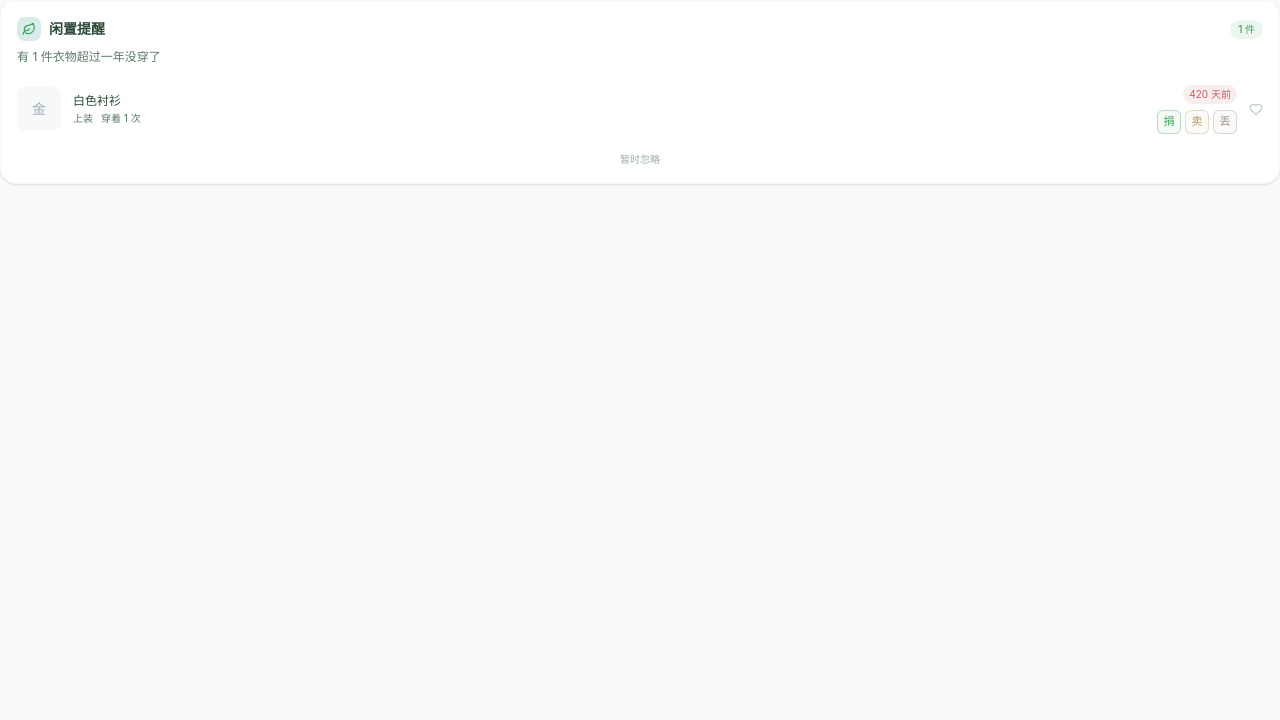
Test: IdleItemsCard › 点「捐」先出二次确认，未确认不调接口
Expected: the text "白色衬衫" is shown, [73, 92, 121, 108]
What coordinates should you click on to do the following:
click the button named "让它找新主人：白色衬衫"
I would click on:
 (1169, 122)
Its box is [1157, 110, 1181, 134].
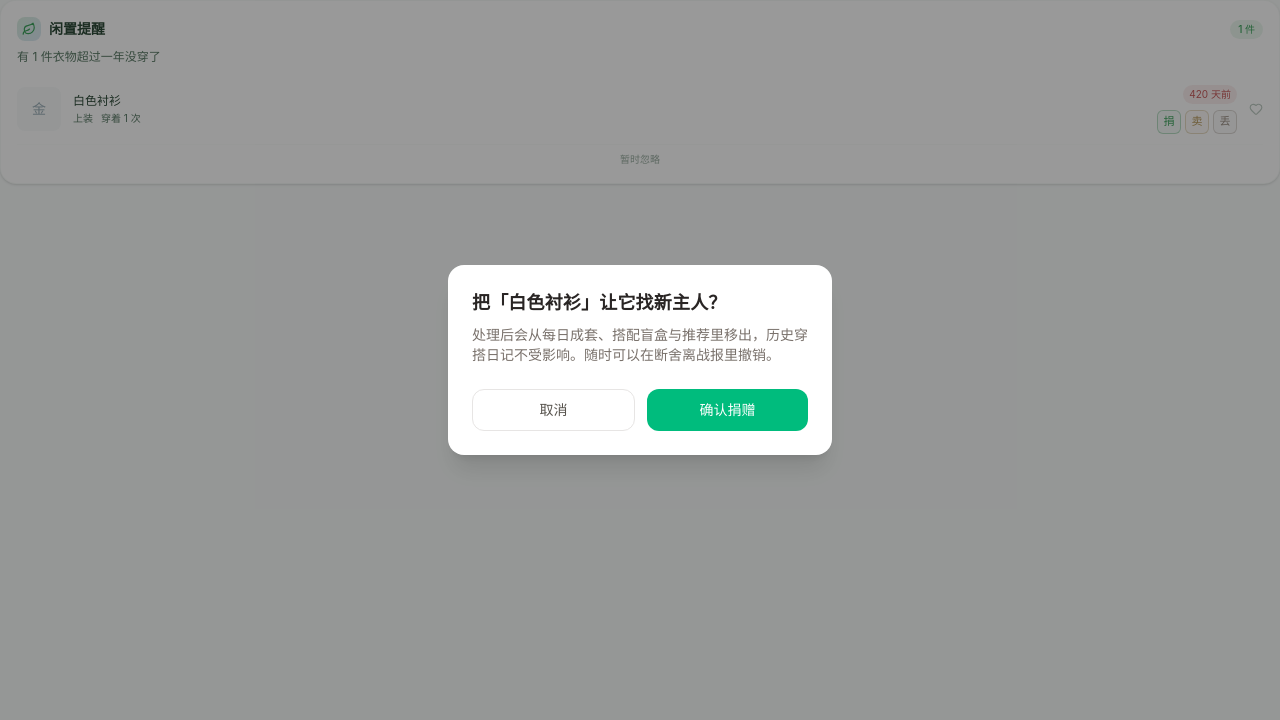
Result: the heading "把「白色衬衫」让它找新主人？" is shown at [472, 293, 726, 313]
What coordinates should you click on to do the following:
click the button "取消"
I would click on:
 (554, 410)
Its box is [472, 389, 635, 431].
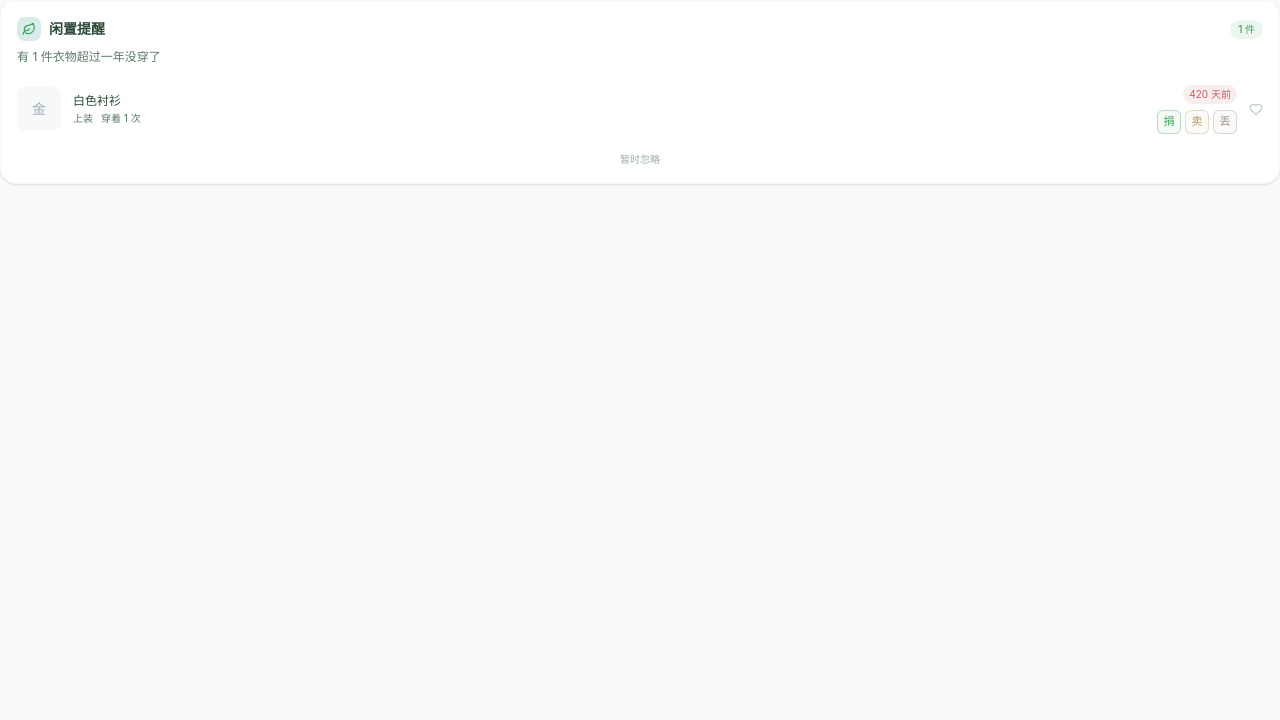
Result: the heading "把「白色衬衫」让它找新主人？" is gone
